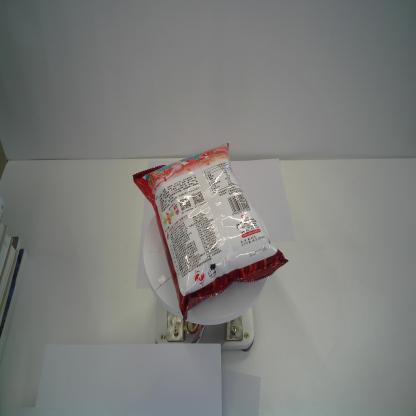Puffed Food: (132, 142, 289, 320)
